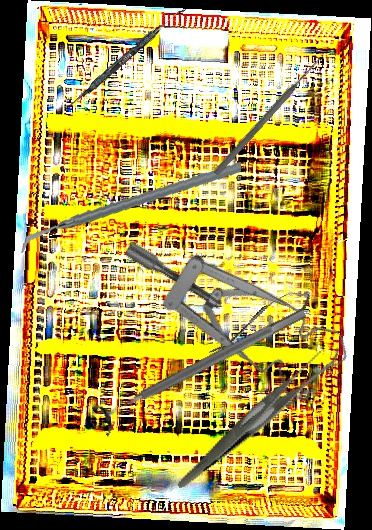Chopper: (20, 143, 242, 272)
Dressing Forceps: (151, 347, 357, 489)
Fixation Ring: (90, 296, 314, 439)
Micro Scissor: (202, 284, 317, 365)
Pusher: (212, 54, 324, 178)
Spatula Surgical: (64, 2, 186, 115)
Speculum: (121, 174, 360, 438)
